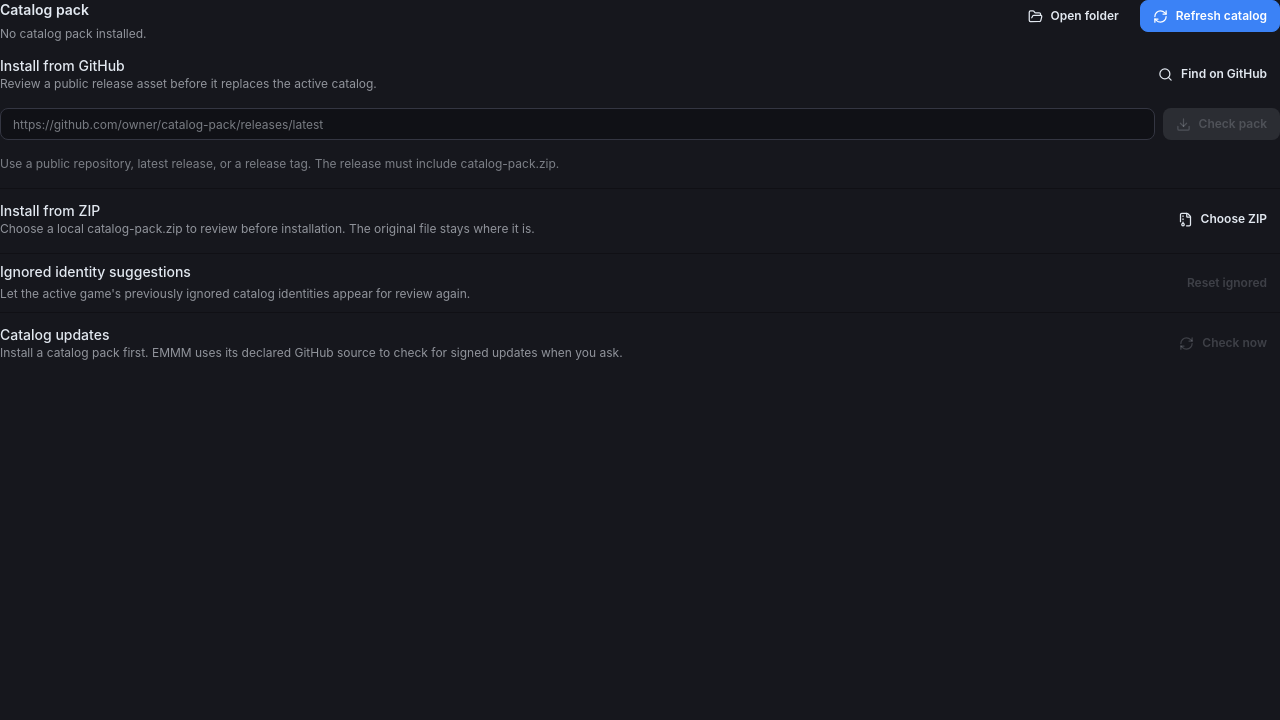
Test case: CatalogTab › discards staged storage when review is cancelled
What coordinates should you click on to do the following:
click the button "Choose ZIP"
I would click on:
 (1222, 219)
Its box is [1165,203,1279,235].
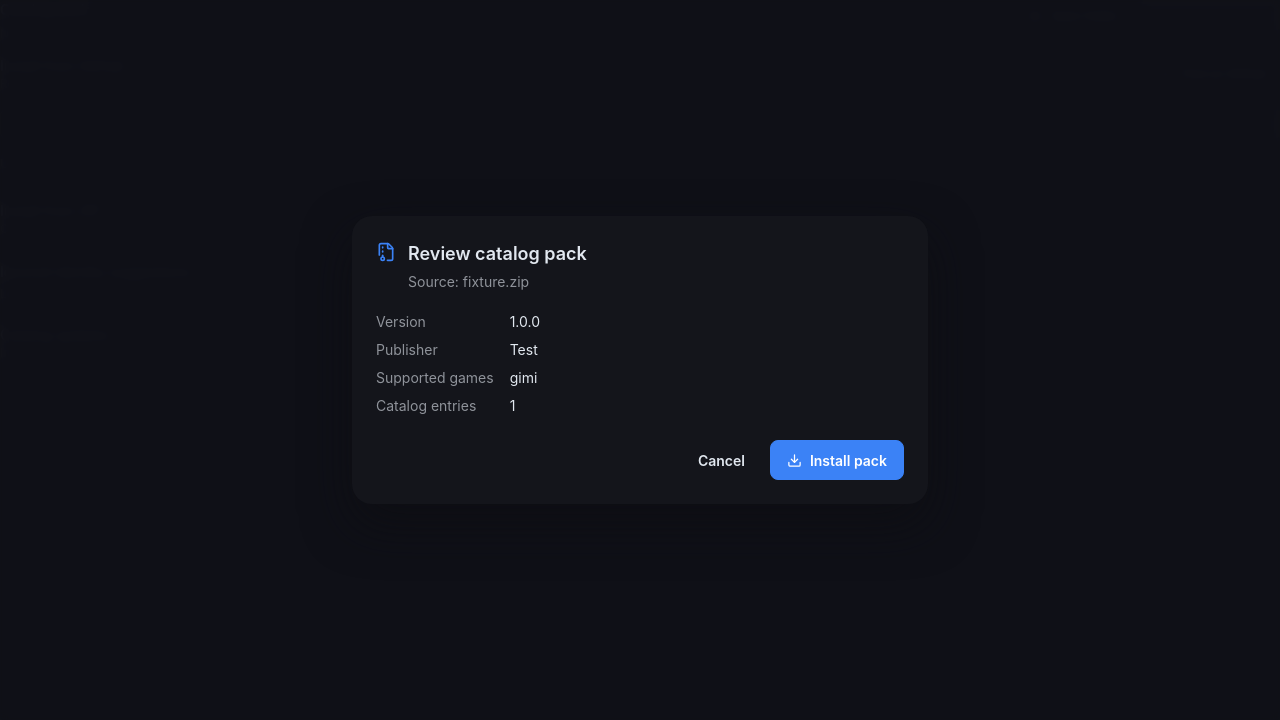
Check: the dialog is shown
What coordinates should you click on to do the following:
click the button "Cancel"
I would click on:
 (721, 460)
Its box is [681,440,762,480].
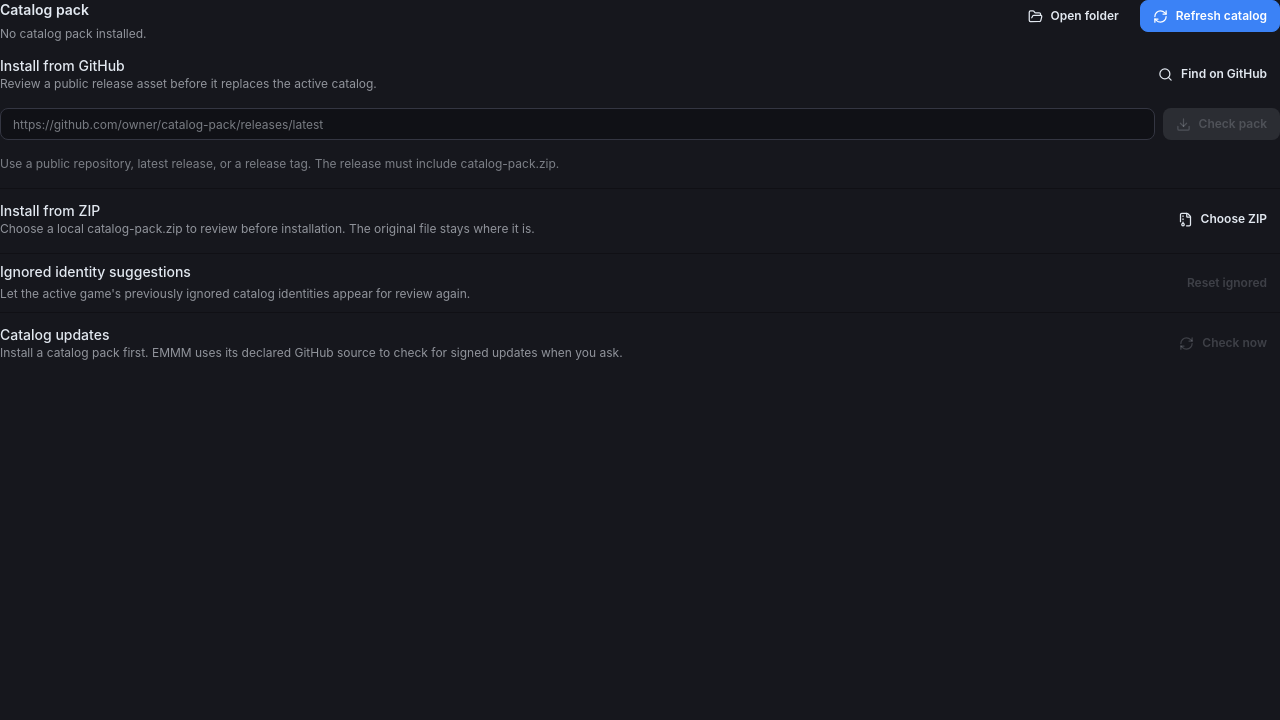
Check: the dialog is gone
